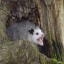opossum: (6, 21, 46, 47)
